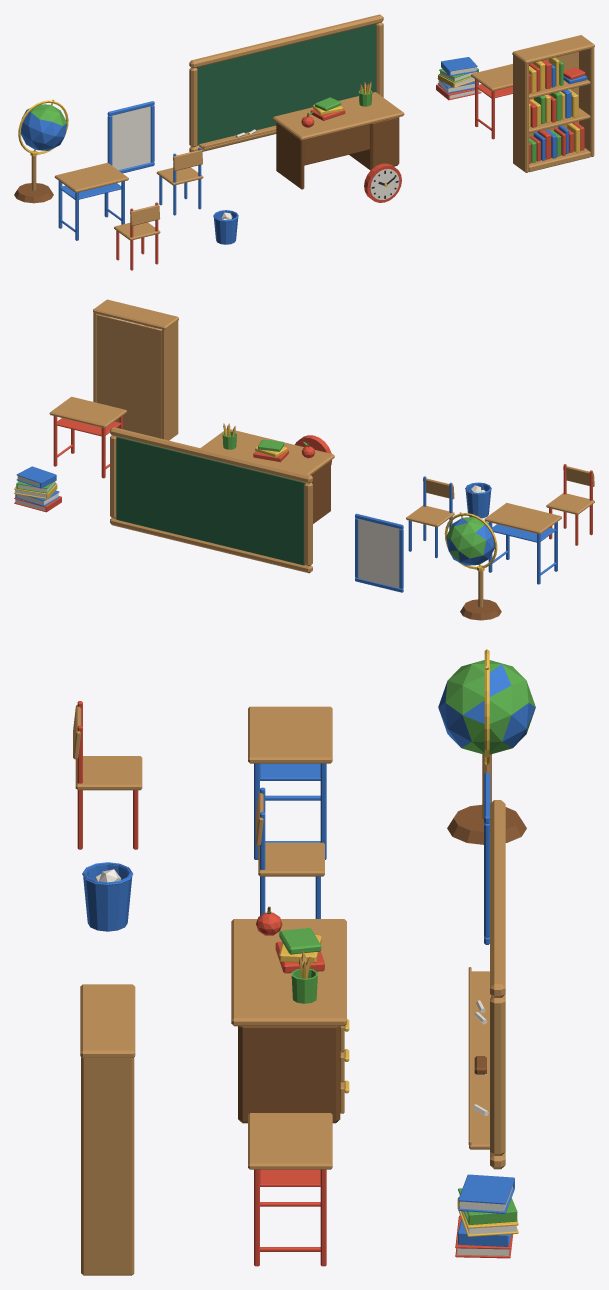
Rendered from low-poly-classroom-set.glb.
The picture shows the model from 3 angles, top to bottom: view 1: azimuth 30°, elevation 25°; view 2: azimuth 150°, elevation 25°; view 3: azimuth 270°, elevation 25°; orthographic projection. The views are drawn at different scales.
Parts seen in each view (by area): view 1: Chalkboard_Board, Bookshelf, TeacherDesk_Top, PosterFrame_Paper, Chalkboard_FrameTop, Bookshelf_Side, TeacherDesk_ModestyPanel, GlobeSphere, TeacherDesk_Pedestal, TeacherDesk_SidePanel, Bookshelf_Side.001, StudentDesk_1_Top (+20 smaller); view 2: Chalkboard_Board, Bookshelf_Back, PosterFrame_Paper, TeacherDesk_Top, Bookshelf_Side, Chalkboard_FrameTop, GlobeSphere, Chalkboard_FrameBottom, StudentDesk_2_Top, StudentDesk_1_Top, Bookshelf_Top, TeacherDesk_SidePanel (+9 smaller); view 3: Bookshelf_Side.001, TeacherDesk_Top, TeacherDesk_Pedestal, GlobeSphere, StudentDesk_1_Top, StudentDesk_2_Top, Bookshelf_Top, Chalkboard_FrameTop, Chalkboard_Ledge, WasteBin_Body, Chalkboard_FrameSide.001, StudentChair_2_Seat (+8 smaller).
Part boxes in pixels (<box>): Chalkboard_Board: <box>196,24,376,145</box>; Bookshelf: <box>529,57,587,163</box>; TeacherDesk_Top: <box>272,92,404,140</box>; PosterFrame_Paper: <box>112,106,150,170</box>; Chalkboard_FrameTop: <box>189,14,383,68</box>; Bookshelf_Side: <box>513,55,528,172</box>; TeacherDesk_ModestyPanel: <box>304,124,369,165</box>; GlobeSphere: <box>20,104,67,150</box>; TeacherDesk_Pedestal: <box>349,117,399,170</box>; TeacherDesk_SidePanel: <box>276,123,304,189</box>; Bookshelf_Side.001: <box>579,47,594,156</box>; StudentDesk_1_Top: <box>54,162,128,192</box>; Chalkboard_Board: <box>116,437,305,565</box>; Bookshelf_Back: <box>96,314,161,438</box>; PosterFrame_Paper: <box>358,519,399,588</box>; TeacherDesk_Top: <box>200,429,334,474</box>; Bookshelf_Side: <box>162,321,178,440</box>; Chalkboard_FrameTop: <box>110,427,312,483</box>; GlobeSphere: <box>446,517,494,565</box>; Chalkboard_FrameBottom: <box>110,518,312,573</box>; StudentDesk_2_Top: <box>49,396,126,428</box>; StudentDesk_1_Top: <box>484,502,561,534</box>; Bookshelf_Top: <box>93,299,178,329</box>; TeacherDesk_SidePanel: <box>311,460,330,523</box>; Bookshelf_Side.001: <box>81,1057,134,1275</box>; TeacherDesk_Top: <box>231,919,346,1026</box>; TeacherDesk_Pedestal: <box>238,1026,340,1123</box>; GlobeSphere: <box>438,660,535,754</box>; StudentDesk_1_Top: <box>248,706,332,763</box>; StudentDesk_2_Top: <box>248,1113,332,1169</box>; Bookshelf_Top: <box>80,984,135,1057</box>; Chalkboard_FrameTop: <box>490,800,505,997</box>; Chalkboard_Ledge: <box>469,971,490,1149</box>; WasteBin_Body: <box>83,863,132,931</box>; Chalkboard_FrameSide.001: <box>490,996,505,1155</box>; StudentChair_2_Seat: <box>75,756,142,790</box>.
Size of the model in its own units: 24.84 by 5.6 by 10.41.
